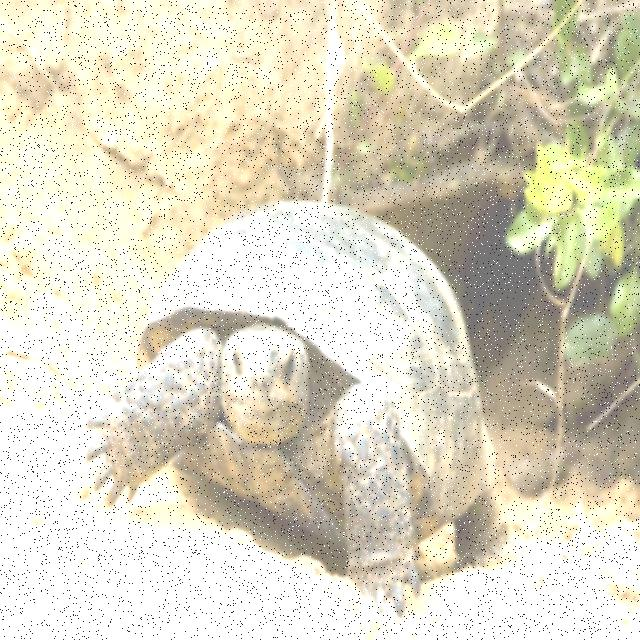tortoise: (88, 183, 516, 615)
